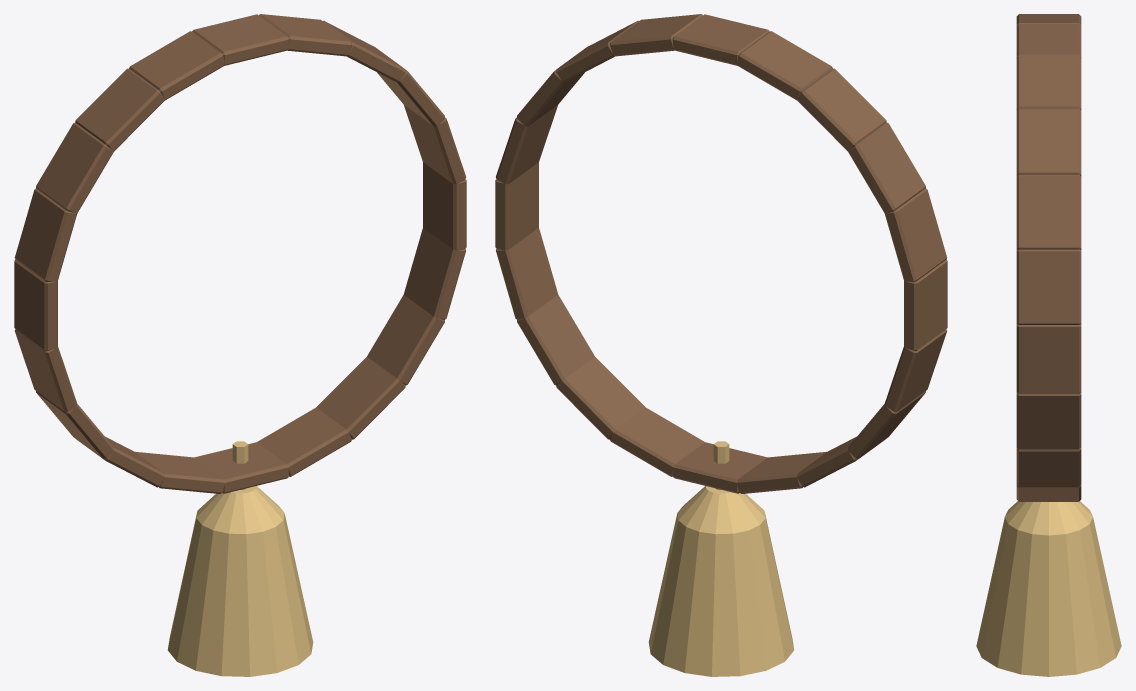
File: sheep_bell_a.glb
3 views of the same model, side by side, from view 1: azimuth 30°, elevation 25°; view 2: azimuth 150°, elevation 25°; view 3: azimuth 270°, elevation 25° (orthographic).
Visible parts, largest first — view 1: sheep_bell_a_LOD0; view 2: sheep_bell_a_LOD0; view 3: sheep_bell_a_LOD0.
Boxes of the visible parts, box(x1,y1,x2,y2) form: sheep_bell_a_LOD0: box(14, 14, 466, 676); sheep_bell_a_LOD0: box(495, 14, 947, 676); sheep_bell_a_LOD0: box(976, 14, 1121, 676).
Bounding box in the file's own units: 0.186 × 0.26 × 0.056.
